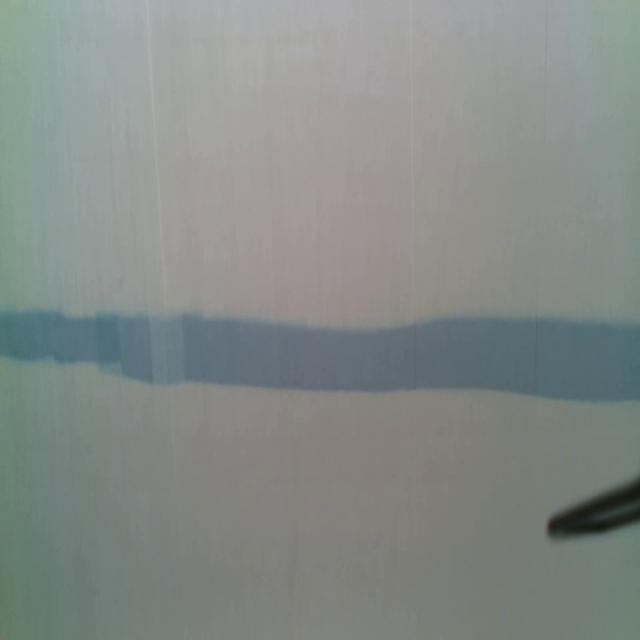color bleeding: (1, 306, 640, 411)
crease: (144, 2, 168, 302), (407, 1, 416, 282), (540, 0, 550, 159)
